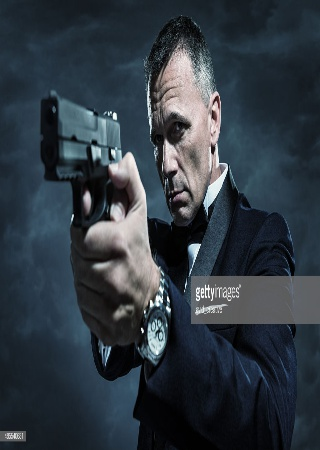handgun: (37, 88, 126, 229)
